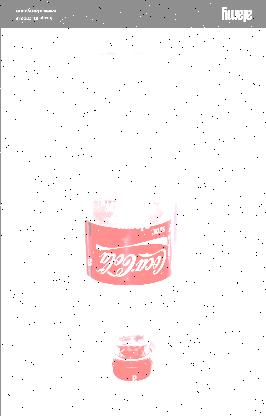Plastic Bottle: (78, 50, 182, 387)
